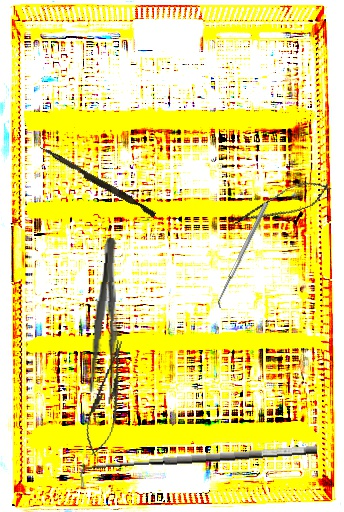Dressing Forceps: (88, 236, 124, 405)
Hook Surgical: (79, 441, 319, 490)
Micro Scissor: (226, 173, 335, 236)
Needle Holder: (80, 337, 134, 459)
Pusher: (37, 145, 158, 218)
Spatula Surgical: (214, 201, 273, 310)
